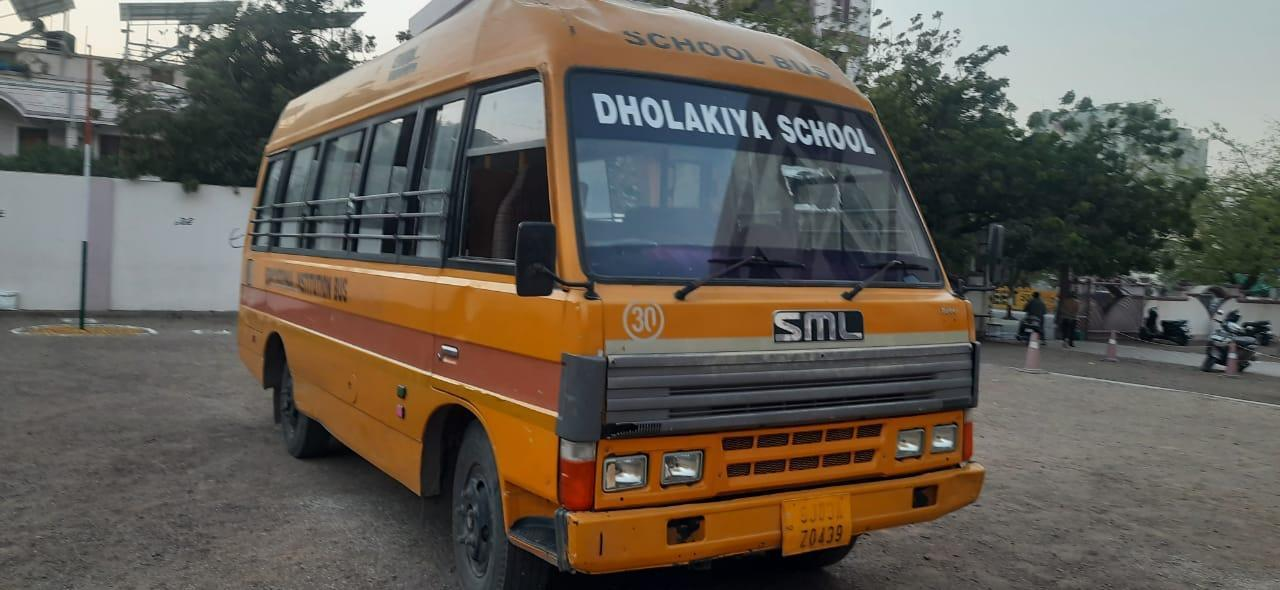Bus: (230, 7, 1036, 585)
